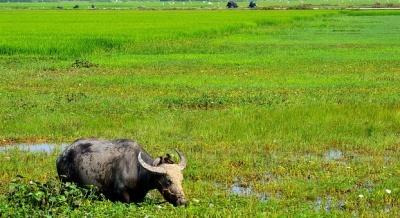buffalo: (56, 138, 186, 205)
